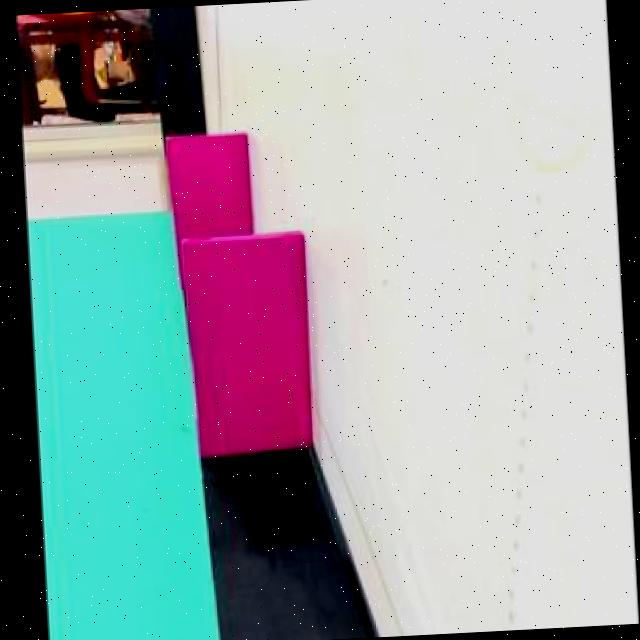xparking: (188, 238, 314, 450), (170, 137, 251, 239)
